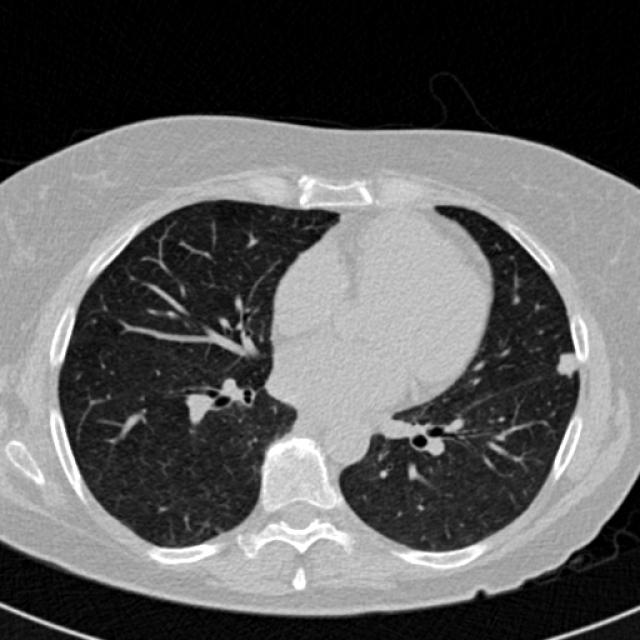nodule: (542, 339, 590, 386)
